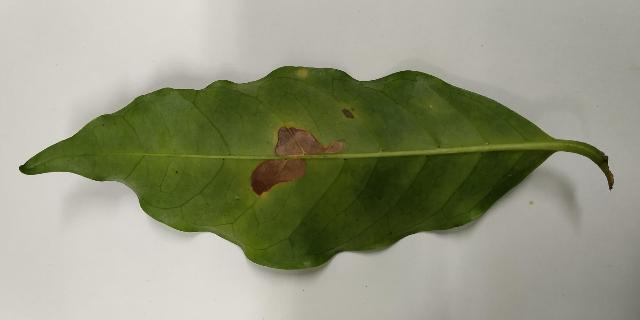cercospora: (250, 119, 345, 199), (342, 109, 353, 118), (298, 68, 307, 77)
